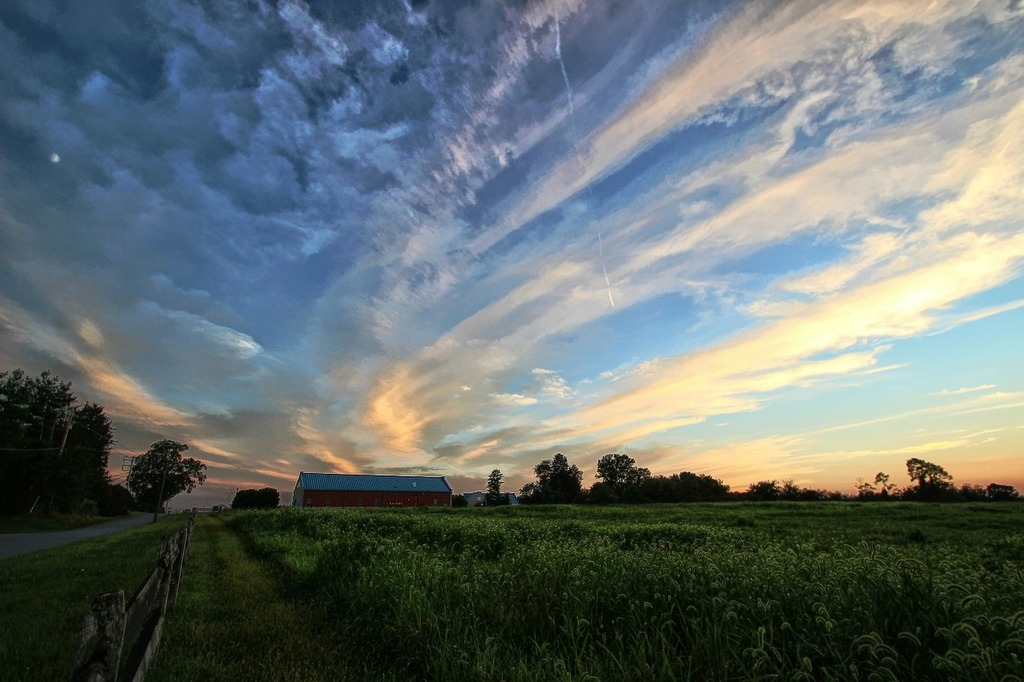Tree: (0, 371, 112, 520), (121, 442, 210, 505), (519, 448, 585, 506), (598, 448, 659, 508), (904, 454, 952, 499), (484, 464, 507, 505)
